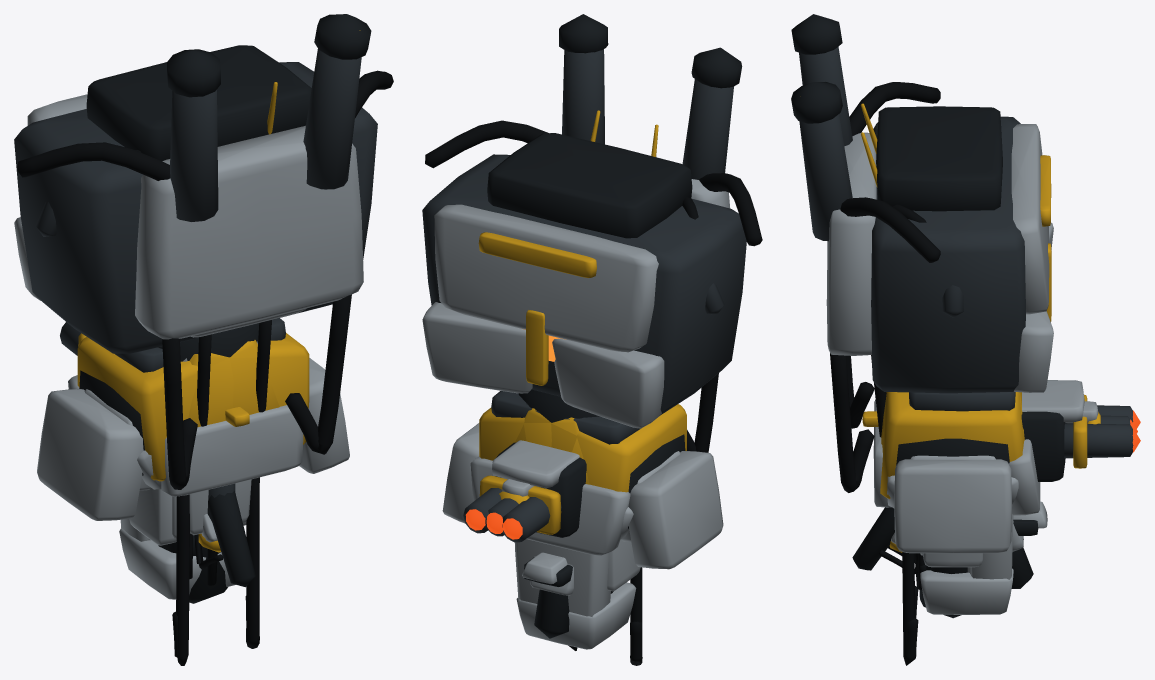
File: v2_androids.glb
3 views of the same model, side by side, from view 1: azimuth 30°, elevation 25°; view 2: azimuth 150°, elevation 25°; view 3: azimuth 270°, elevation 25° (orthographic). The views are drawn at different scales.
Parts seen in each view (by area): view 1: H__torso__plate__2, H__torso__body__1, H__hips__plate__1, H__torso__joint__2, H__shL__trim__1, H__torso__body__3, H__torso__body__2, H__shR__trim__1, H__torso__cable__2, H__torso__cable__4, H__torso__cable__3, H__knL__plate__2 (+12 smaller); view 2: H__torso__plate__1, H__torso__body__1, H__torso__joint__2, H__hips__plate__1, H__shL__trim__1, H__hpL__plate__1, H__torso__trim__1, H__torso__body__2, H__torso__cable__2, H__torso__body__3, H__knL__plate__2, H__gun__plate__1 (+14 smaller); view 3: H__torso__body__1, H__hips__plate__1, H__torso__joint__2, H__torso__plate__2, H__torso__plate__1, H__shR__trim__1, H__torso__body__3, H__torso__cable__2, H__knL__plate__2, H__torso__cable__4, H__gun__joint__1, H__gun__body__1 (+15 smaller).
Part boxes in pixels (x1,y1,x2,y2): H__torso__plate__2: (135,125,363,339); H__torso__body__1: (14,62,377,372); H__hips__plate__1: (37,358,349,520); H__torso__joint__2: (86,45,311,161); H__shL__trim__1: (77,337,279,481); H__torso__body__3: (303,49,361,189); H__torso__body__2: (170,89,218,221); H__shR__trim__1: (188,333,309,444); H__torso__cable__2: (17,70,393,180); H__torso__cable__4: (285,294,351,454); H__torso__cable__3: (162,338,197,489); H__knL__plate__2: (119,528,235,599); H__torso__plate__1: (422,204,664,428); H__torso__body__1: (422,154,746,444); H__torso__joint__2: (487,133,692,238); H__hips__plate__1: (442,423,723,569); H__shL__trim__1: (515,404,686,492); H__hpL__plate__1: (514,539,640,616); H__torso__trim__1: (478,232,596,385); H__torso__body__2: (682,79,733,179); H__torso__cable__2: (425,120,762,246); H__torso__body__3: (562,49,604,144); H__knL__plate__2: (516,582,636,649); H__gun__plate__1: (492,440,579,488); H__torso__body__1: (871,116,1025,411); H__hips__plate__1: (873,399,1040,553); H__torso__joint__2: (876,106,1002,211); H__torso__plate__2: (826,132,876,355); H__torso__plate__1: (1011,124,1053,392); H__shR__trim__1: (880,392,1023,499); H__torso__body__3: (799,114,852,241); H__torso__cable__2: (840,82,940,262); H__knL__plate__2: (920,568,1013,614); H__torso__cable__4: (830,353,874,492); H__gun__joint__1: (1021,411,1065,481); H__gun__body__1: (1064,405,1133,458).
Size of the model in its own units: 0.8665 by 1.46 by 0.7708.
